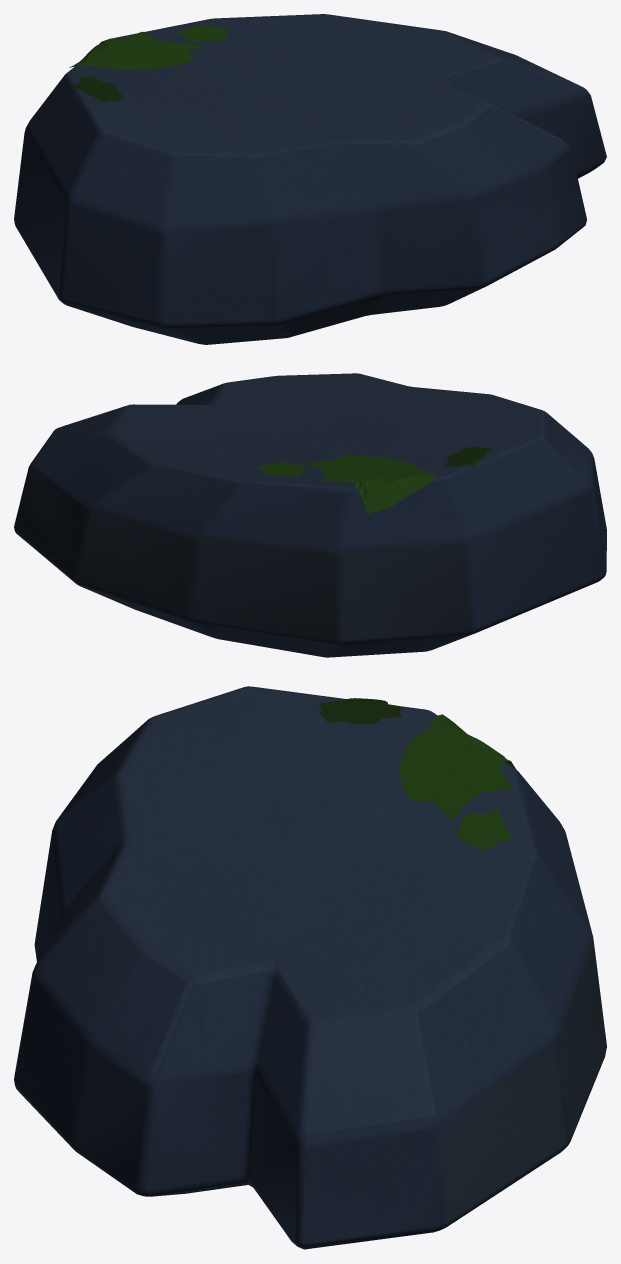
Rendered from P1_Roche_Plate.glb.
The picture shows the model from 3 angles, top to bottom: view 1: azimuth 30°, elevation 25°; view 2: azimuth 150°, elevation 25°; view 3: azimuth 270°, elevation 25°; orthographic projection. The views are drawn at different scales.
Visible parts, largest first — view 1: P1_Roche_Plate_Pierre, P1_Roche_Plate_Mousse; view 2: P1_Roche_Plate_Pierre, P1_Roche_Plate_Mousse; view 3: P1_Roche_Plate_Pierre, P1_Roche_Plate_Mousse.
Part boxes in pixels (bbox=[...]): P1_Roche_Plate_Pierre: bbox=[14, 14, 606, 344]; P1_Roche_Plate_Mousse: bbox=[69, 24, 229, 102]; P1_Roche_Plate_Pierre: bbox=[14, 373, 606, 657]; P1_Roche_Plate_Mousse: bbox=[259, 446, 490, 513]; P1_Roche_Plate_Pierre: bbox=[14, 686, 606, 1249]; P1_Roche_Plate_Mousse: bbox=[319, 698, 515, 850].
Size of the model in its own units: 3.24 by 1.07 by 2.18.
Materials: 1 (1 with a texture image).
